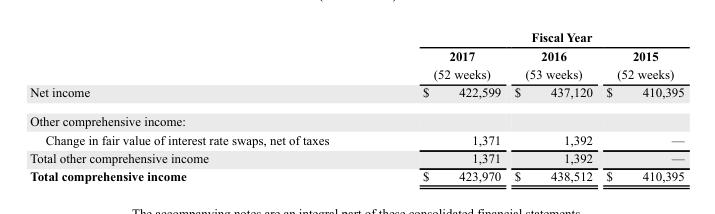table: (29, 29, 683, 183)
table column: (29, 29, 375, 183), (375, 29, 507, 183), (507, 29, 598, 183), (598, 29, 683, 183)
table column header: (29, 29, 683, 82)
table projected row header: (29, 106, 683, 130)
table row: (29, 45, 683, 82), (29, 82, 683, 106), (29, 106, 683, 130), (29, 130, 683, 148), (29, 148, 683, 166), (29, 166, 683, 183), (29, 29, 683, 45)
table spanning cell: (375, 29, 683, 45)
